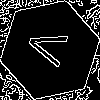V: (25, 25, 77, 71)
